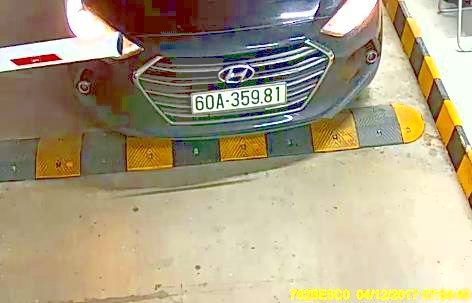plate: (193, 80, 290, 114)
